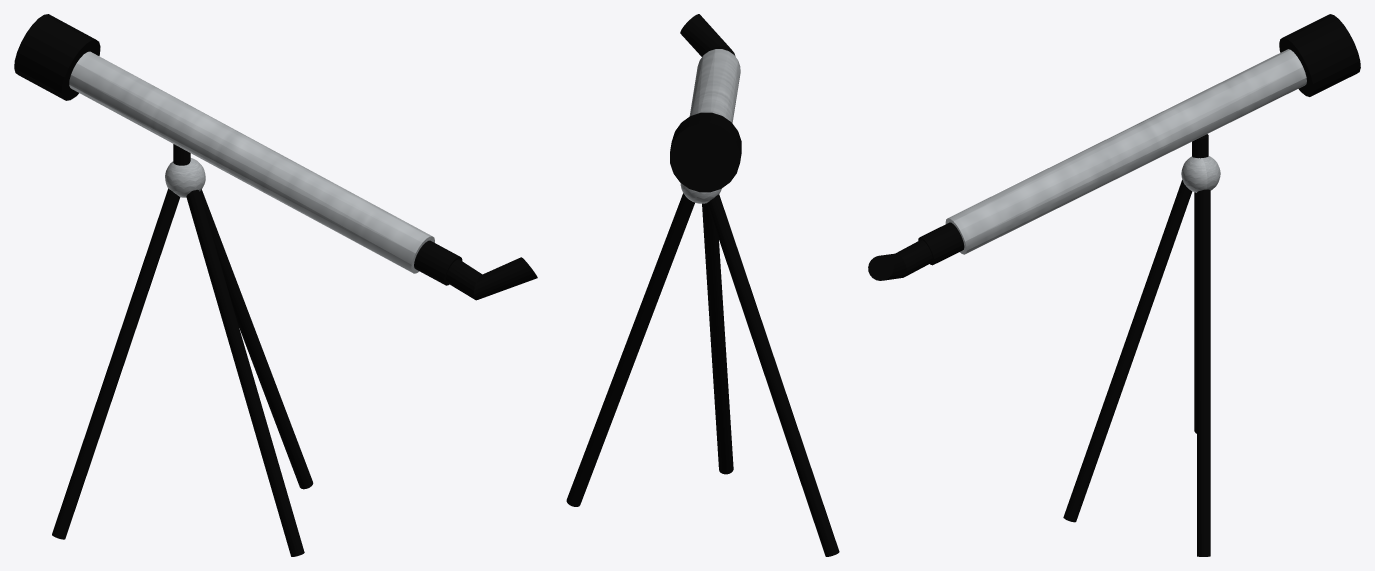
The model's file is telescopio.obj.
3 views of the same model, side by side, from view 1: azimuth 30°, elevation 25°; view 2: azimuth 150°, elevation 25°; view 3: azimuth 270°, elevation 25° (orthographic). The views are drawn at different scales.
Visible parts, largest first — view 1: group8 pasted__pCylinder6, group8 pasted__pCylinder4, group8 pasted__pCylinder5, pasted__pCylinder3 group8, group8 pasted__pSphere1; view 2: group8 pasted__pCylinder6, group8 pasted__pCylinder5, pasted__pCylinder3 group8, group8 pasted__pCylinder4, group8 pasted__pSphere1; view 3: group8 pasted__pCylinder6, pasted__pCylinder3 group8, group8 pasted__pCylinder4, group8 pasted__pSphere1, group8 pasted__pCylinder5.
Boxes of the visible parts, bbox=[...] form: group8 pasted__pCylinder6: bbox=[14, 14, 537, 300]; group8 pasted__pCylinder4: bbox=[186, 189, 304, 556]; group8 pasted__pCylinder5: bbox=[52, 188, 180, 539]; pasted__pCylinder3 group8: bbox=[199, 189, 313, 489]; group8 pasted__pSphere1: bbox=[165, 158, 205, 197]; group8 pasted__pCylinder6: bbox=[670, 14, 741, 192]; group8 pasted__pCylinder5: bbox=[707, 194, 839, 556]; pasted__pCylinder3 group8: bbox=[566, 193, 694, 506]; group8 pasted__pCylinder4: bbox=[702, 203, 733, 474]; group8 pasted__pSphere1: bbox=[680, 183, 721, 203]; group8 pasted__pCylinder6: bbox=[868, 14, 1360, 280]; pasted__pCylinder3 group8: bbox=[1197, 189, 1210, 556]; group8 pasted__pCylinder4: bbox=[1063, 180, 1192, 522]; group8 pasted__pSphere1: bbox=[1181, 156, 1220, 192]; group8 pasted__pCylinder5: bbox=[1194, 192, 1196, 433].
Size of the model in its own units: 1.14 by 1.61 by 1.6.
